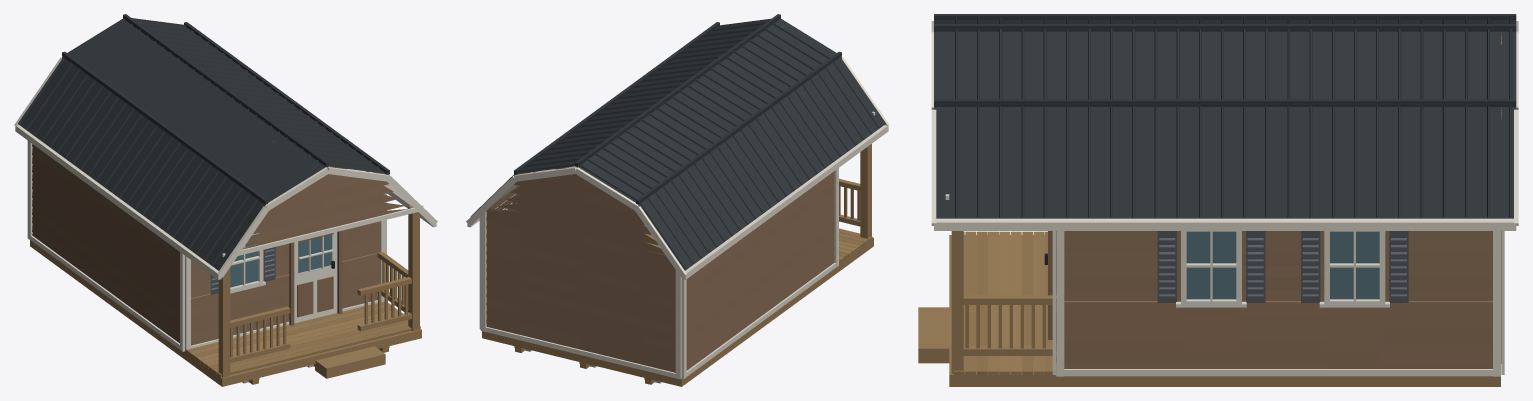
Rendered from 09-end-porch-shutters.glb.
The picture shows the model from 3 angles, left to right: view 1: azimuth 30°, elevation 25°; view 2: azimuth 150°, elevation 25°; view 3: azimuth 270°, elevation 25°; orthographic projection. The views are drawn at different scales.
Visible parts, largest first — view 1: Main roof, left wall, Porch decking, columns and rails, front wall, front porch gable, front wall entry, Floor platform and skids, front wall window, Louvered window shutters; view 2: Main roof, rear wall, left wall, Floor platform and skids, Porch decking, columns and rails, right wall; view 3: Main roof, right wall, Porch decking, columns and rails, right wall window, Floor platform and skids, Louvered window shutters, front wall, rear wall, front wall entry.
Boxes of the visible parts, x1,y1,x2,y2 form: Main roof: (14, 14, 437, 279); left wall: (27, 141, 184, 351); Porch decking, columns and rails: (185, 205, 420, 378); front wall: (185, 141, 385, 351); front porch gable: (222, 165, 423, 257); front wall entry: (289, 230, 342, 325); Floor platform and skids: (30, 240, 421, 386); front wall window: (230, 233, 265, 293); Louvered window shutters: (210, 247, 275, 294); Main roof: (466, 14, 889, 279); rear wall: (480, 163, 681, 379); left wall: (681, 168, 838, 378); Floor platform and skids: (482, 225, 873, 386); Porch decking, columns and rails: (839, 144, 872, 263); right wall: (479, 174, 572, 329); Main roof: (931, 14, 1518, 230); right wall: (1056, 231, 1500, 376); Porch decking, columns and rails: (918, 231, 1056, 374); right wall window: (1176, 231, 1389, 307); Floor platform and skids: (949, 235, 1500, 386); Louvered window shutters: (1157, 231, 1408, 302); front wall: (1052, 231, 1056, 374); rear wall: (1501, 32, 1504, 374); front wall entry: (1044, 231, 1052, 339).
Size of the model in its own units: 4.01 by 3.68 by 6.64.
